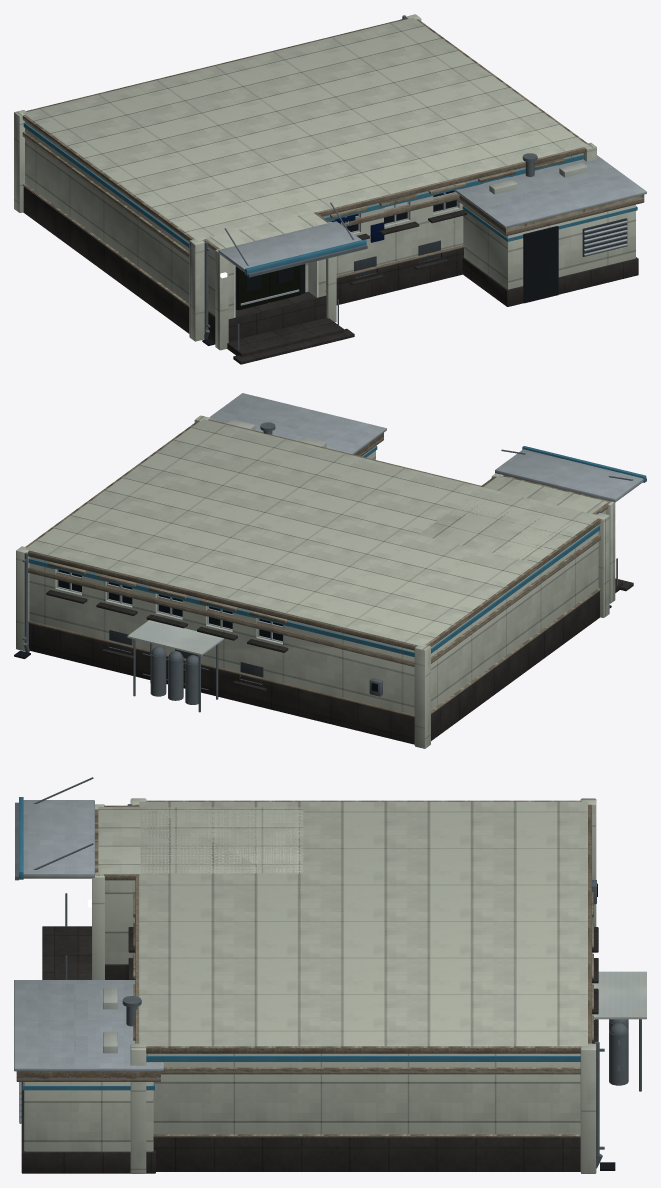
The model's file is fac_hygiene_main.glb.
The picture shows the model from 3 angles, top to bottom: view 1: azimuth 30°, elevation 25°; view 2: azimuth 150°, elevation 25°; view 3: azimuth 270°, elevation 25°; orthographic projection. The views are drawn at different scales.
Visible parts, largest first — view 1: FAC_HYGIENE_MAIN; view 2: FAC_HYGIENE_MAIN; view 3: FAC_HYGIENE_MAIN.
Boxes of the visible parts, left/top/right/bottom form: FAC_HYGIENE_MAIN: left=14, top=14, right=646, bottom=364; FAC_HYGIENE_MAIN: left=14, top=393, right=646, bottom=748; FAC_HYGIENE_MAIN: left=14, top=777, right=646, bottom=1173.
Bounding box in the file's own units: 13.91 × 3.98 × 14.63.
Materials: 17 (15 with a texture image).
